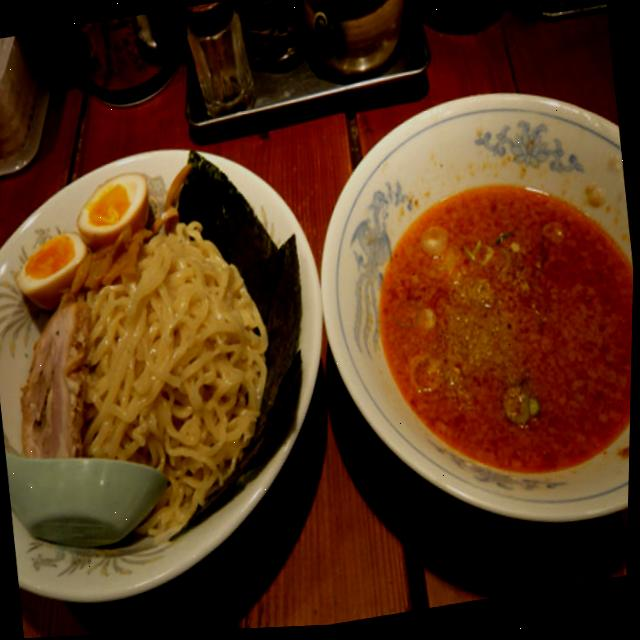面条主食: (0, 87, 638, 617)
